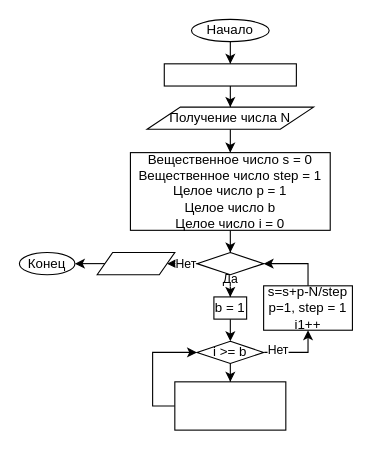
This 372x450 diagram has some shape labels left out. Each missing label, with the box of its shape:
N >= i: (196, 251, 264, 275)
p=p*b step = 1.1* step b++: (174, 381, 286, 430)
Вывод s: (96, 251, 175, 275)
Целое число N: (163, 63, 296, 86)
